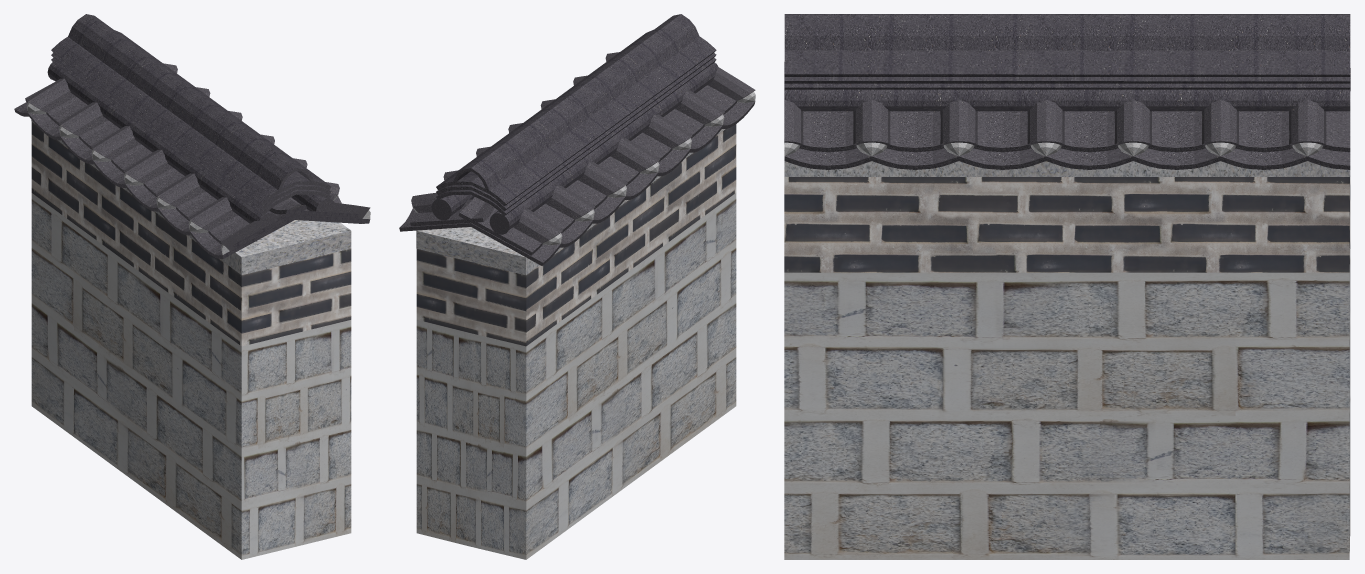
Rendered from SM_StraightStronewall_2.fbx.
3 views of the same model, side by side, from view 1: azimuth 30°, elevation 25°; view 2: azimuth 150°, elevation 25°; view 3: azimuth 270°, elevation 25° (orthographic). The views are drawn at different scales.
Parts seen in each view (by area): view 1: SM_StraightStronewall_2; view 2: SM_StraightStronewall_2; view 3: SM_StraightStronewall_2.
Part boxes in pixels (x1=…): SM_StraightStronewall_2: x1=14, y1=14, x2=370, y2=559; SM_StraightStronewall_2: x1=399, y1=14, x2=755, y2=559; SM_StraightStronewall_2: x1=784, y1=14, x2=1350, y2=559.
Bounding box in the file's own units: 85.78 × 210 × 209.
Materials: 4 (4 with a texture image).
